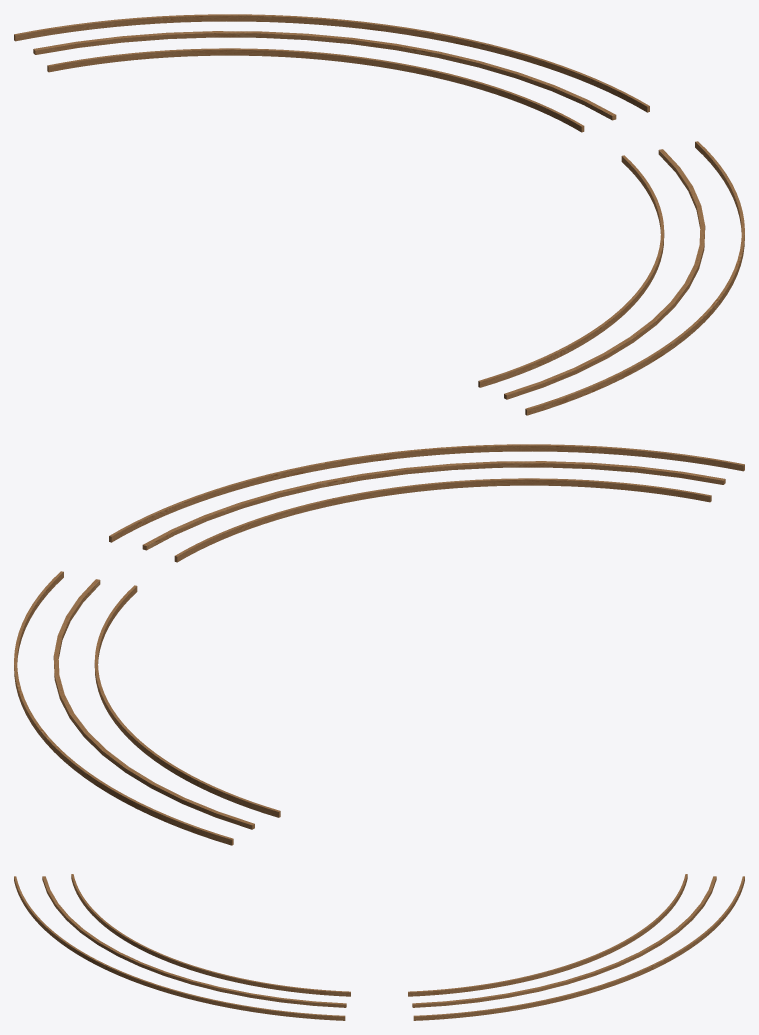
File: mesh_com_bs_beams.glb
The picture shows the model from 3 angles, top to bottom: view 1: azimuth 30°, elevation 25°; view 2: azimuth 150°, elevation 25°; view 3: azimuth 270°, elevation 25°; orthographic projection. The views are drawn at different scales.
Visible parts, largest first — view 1: mesh_com_bs_beams; view 2: mesh_com_bs_beams; view 3: mesh_com_bs_beams.
Part boxes in pixels (box(x1,y1,x2,y2)): mesh_com_bs_beams: box(14, 14, 744, 415); mesh_com_bs_beams: box(14, 444, 744, 845); mesh_com_bs_beams: box(14, 874, 744, 1020).
Bounding box in the file's own units: 23.39 × 0.3189 × 50.64.
1 material, 1 textured.
